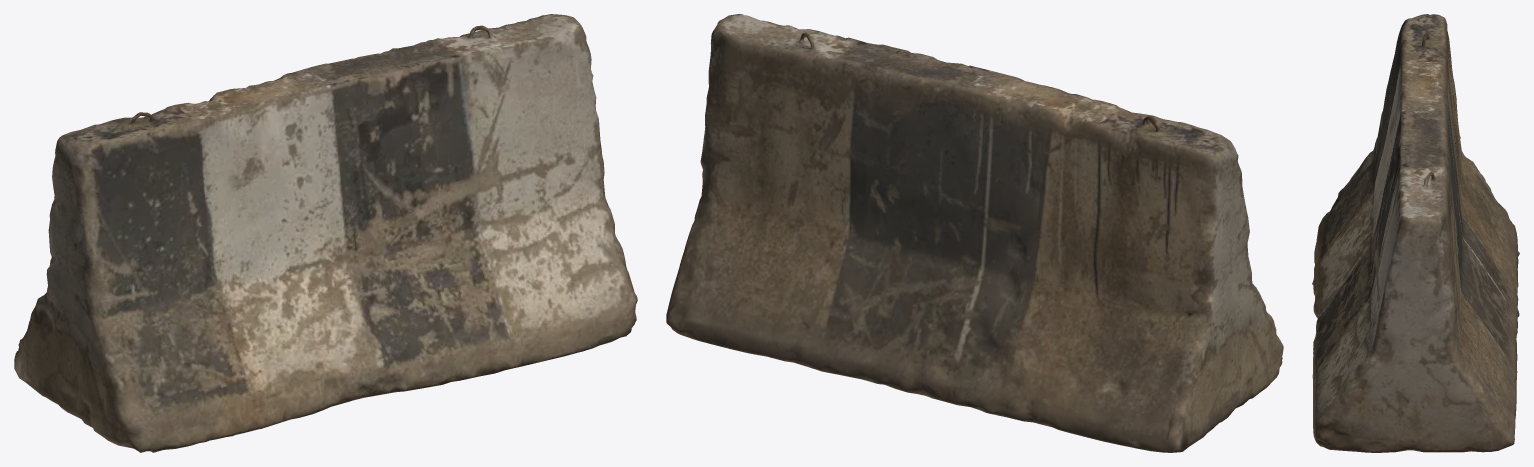
File: concrete_road_barrier.glb
3 renders of one model, left to right at view 1: azimuth 30°, elevation 25°; view 2: azimuth 150°, elevation 25°; view 3: azimuth 270°, elevation 25°, orthographic. The views are drawn at different scales.
Parts seen in each view (by area): view 1: concrete_road_barrier; view 2: concrete_road_barrier; view 3: concrete_road_barrier.
Boxes of the visible parts, left/top/right/bottom form: concrete_road_barrier: left=14, top=14, right=637, bottom=452; concrete_road_barrier: left=666, top=14, right=1283, bottom=452; concrete_road_barrier: left=1312, top=14, right=1519, bottom=452.
Bounding box in the file's own units: 1.54 × 0.8303 × 0.6387.
Materials: 1 (1 with a texture image).
